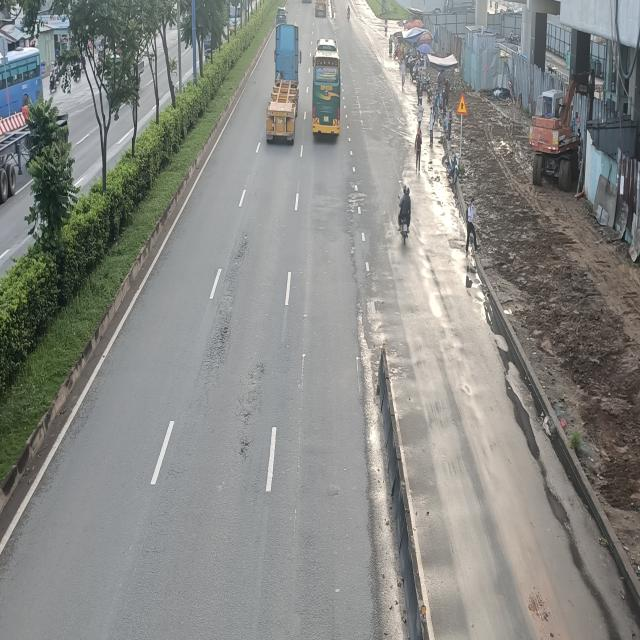coach: (311, 38, 342, 140)
container: (266, 22, 302, 144)
